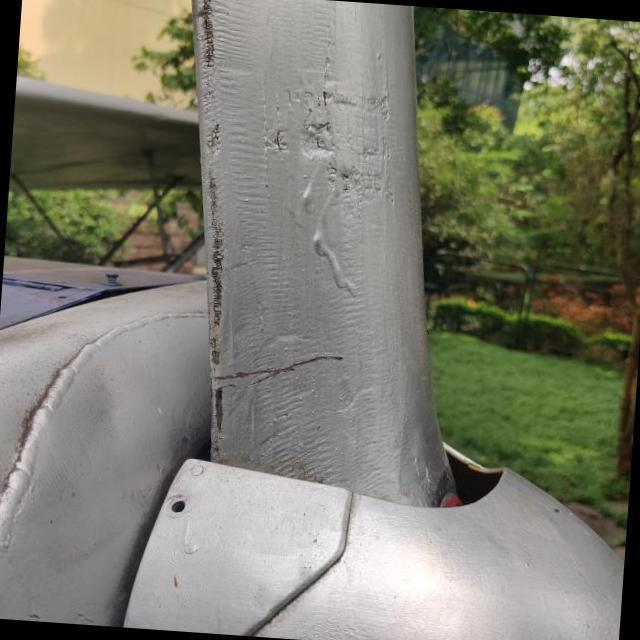Fastener Damage: (144, 472, 210, 538)
